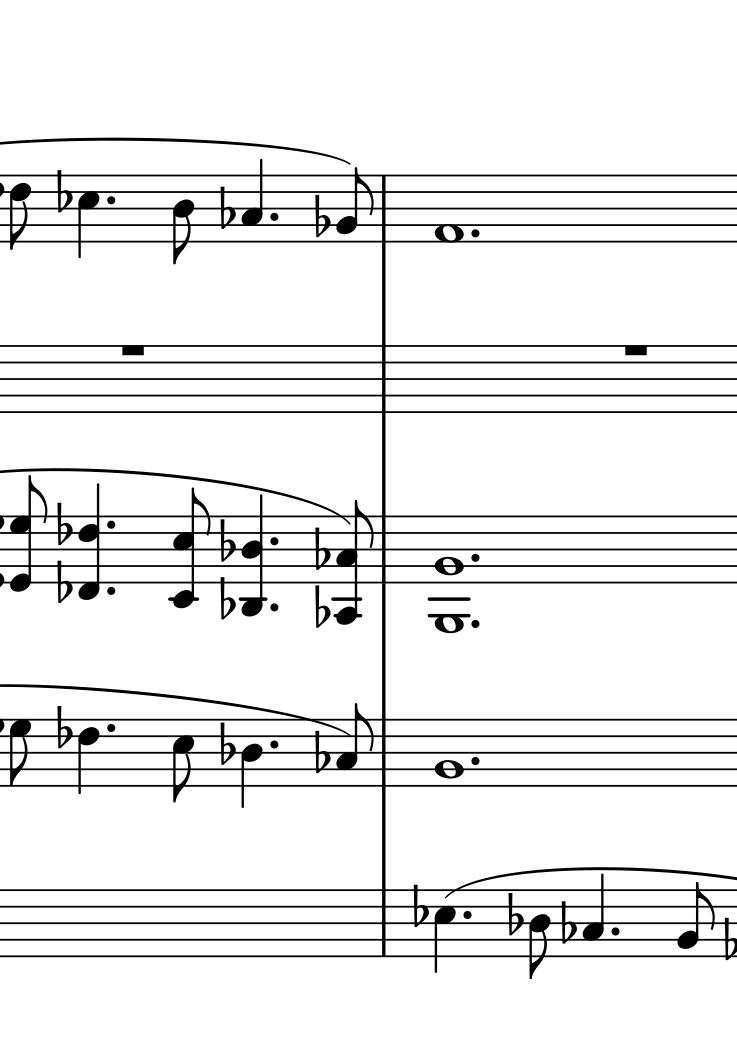1_-5_2: (428, 512, 471, 634)
1_1: (432, 173, 467, 245)
1_2: (434, 715, 464, 795)
4_-1_6: (77, 482, 101, 601)
4_-3_4: (241, 494, 270, 618)
4_3: (581, 873, 608, 959), (240, 158, 265, 245)
4_4: (239, 717, 264, 812)
4_5: (431, 889, 461, 976), (76, 171, 102, 258)
4_6: (75, 718, 102, 798)
8_-2_5: (169, 487, 213, 610)
8_-4_3: (333, 500, 376, 625)
8_0_7: (9, 474, 48, 593)
8_2: (673, 881, 717, 960), (337, 164, 376, 245)
8_3: (333, 702, 378, 787)
8_4: (169, 172, 195, 266), (528, 888, 554, 981)
8_5: (171, 718, 194, 802)
8_6: (7, 174, 33, 249)
8_7: (7, 719, 32, 790)
Flat: (215, 183, 235, 236), (217, 720, 237, 770), (313, 584, 334, 631), (313, 526, 332, 575), (218, 575, 238, 621), (218, 516, 237, 563), (505, 891, 524, 938), (310, 729, 330, 773), (55, 502, 74, 547), (560, 897, 577, 947), (54, 169, 72, 216), (53, 700, 70, 749), (55, 559, 73, 605), (313, 193, 331, 237), (411, 885, 429, 929)
Rests1: (618, 337, 652, 361), (117, 338, 150, 362)
Single_barline: (374, 346, 393, 412), (375, 890, 393, 957), (374, 175, 392, 241), (375, 719, 392, 787), (375, 516, 391, 584), (504, 892, 517, 945)
dot: (265, 209, 281, 226), (468, 225, 484, 241), (102, 721, 118, 736), (265, 737, 281, 752), (268, 533, 283, 549), (267, 599, 282, 615), (104, 518, 118, 535), (469, 615, 482, 633), (103, 194, 118, 208), (459, 908, 474, 922), (467, 754, 482, 768), (467, 551, 482, 565), (105, 584, 118, 598), (609, 925, 622, 939)
